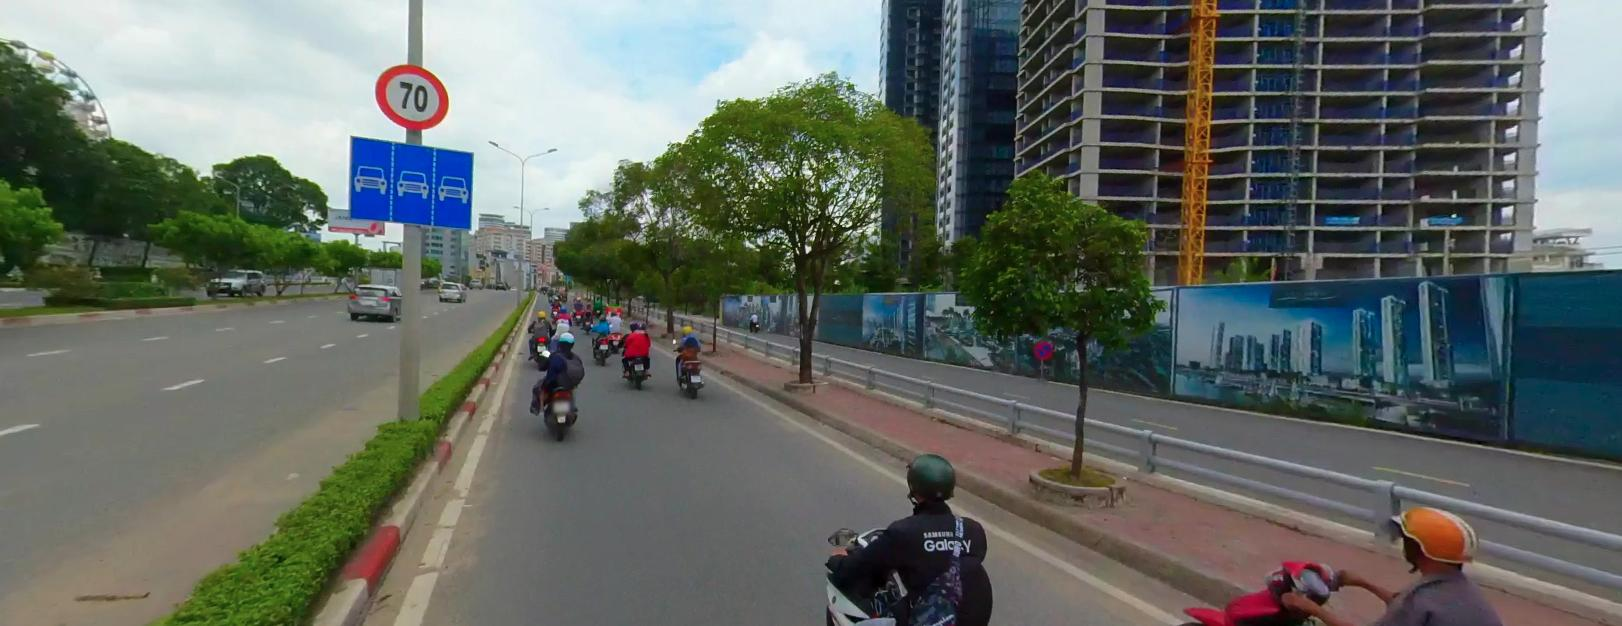Cam dung va do: (1034, 340, 1051, 357)
Gioi han toc do: (374, 63, 448, 127)
